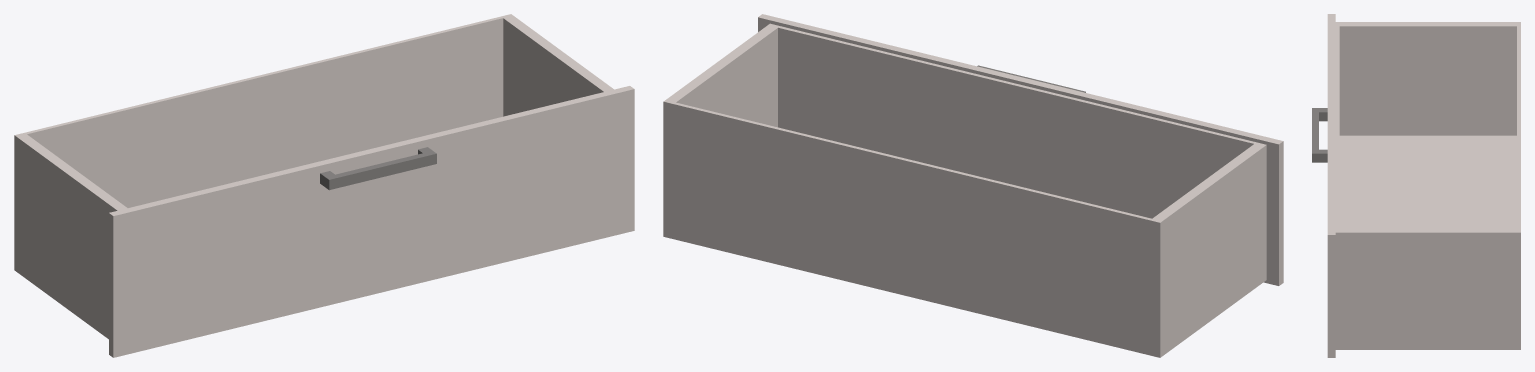
Rendered from Cupboard_10_02.fbx.
The picture shows the model from 3 angles, left to right: view 1: azimuth 30°, elevation 25°; view 2: azimuth 150°, elevation 25°; view 3: azimuth 270°, elevation 25°; orthographic projection. The views are drawn at different scales.
Parts seen in each view (by area): view 1: Cupboard_10_02; view 2: Cupboard_10_02; view 3: Cupboard_10_02.
Part boxes in pixels (x1,y1,x2,y2): Cupboard_10_02: [14, 14, 634, 357]; Cupboard_10_02: [663, 14, 1283, 357]; Cupboard_10_02: [1312, 14, 1520, 357].
Size of the model in its own units: 128 by 33.31 by 51.18.
